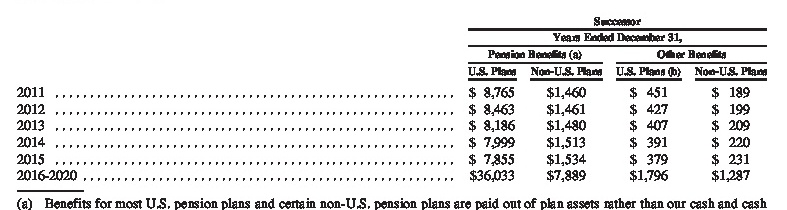table: (0, 0, 787, 210)
